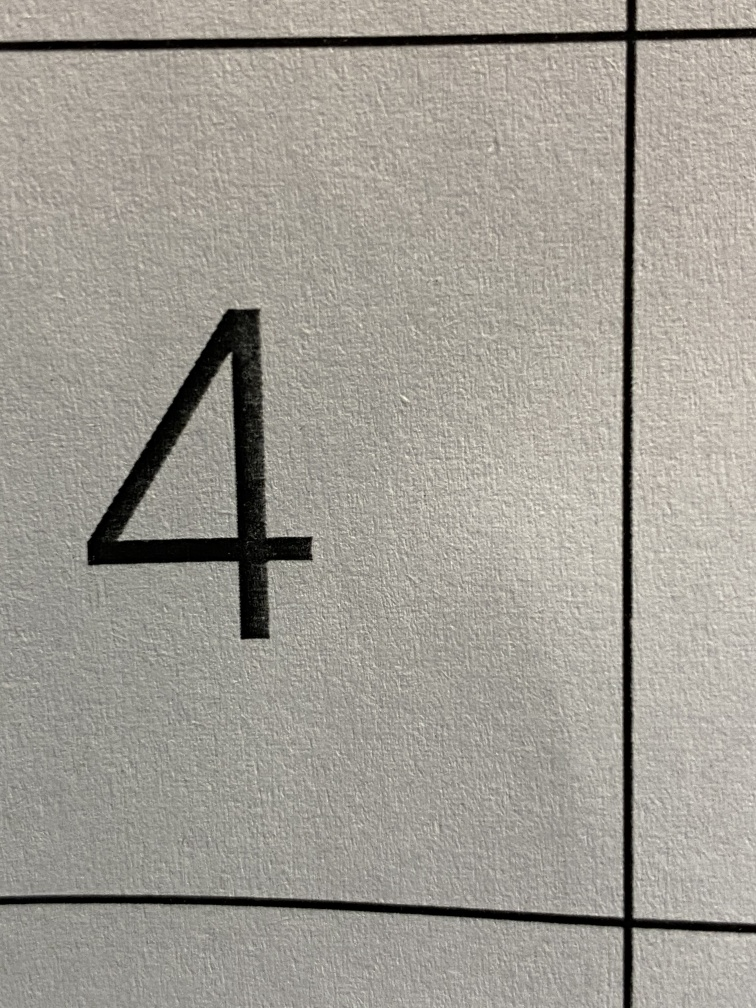four: (67, 255, 388, 714)
